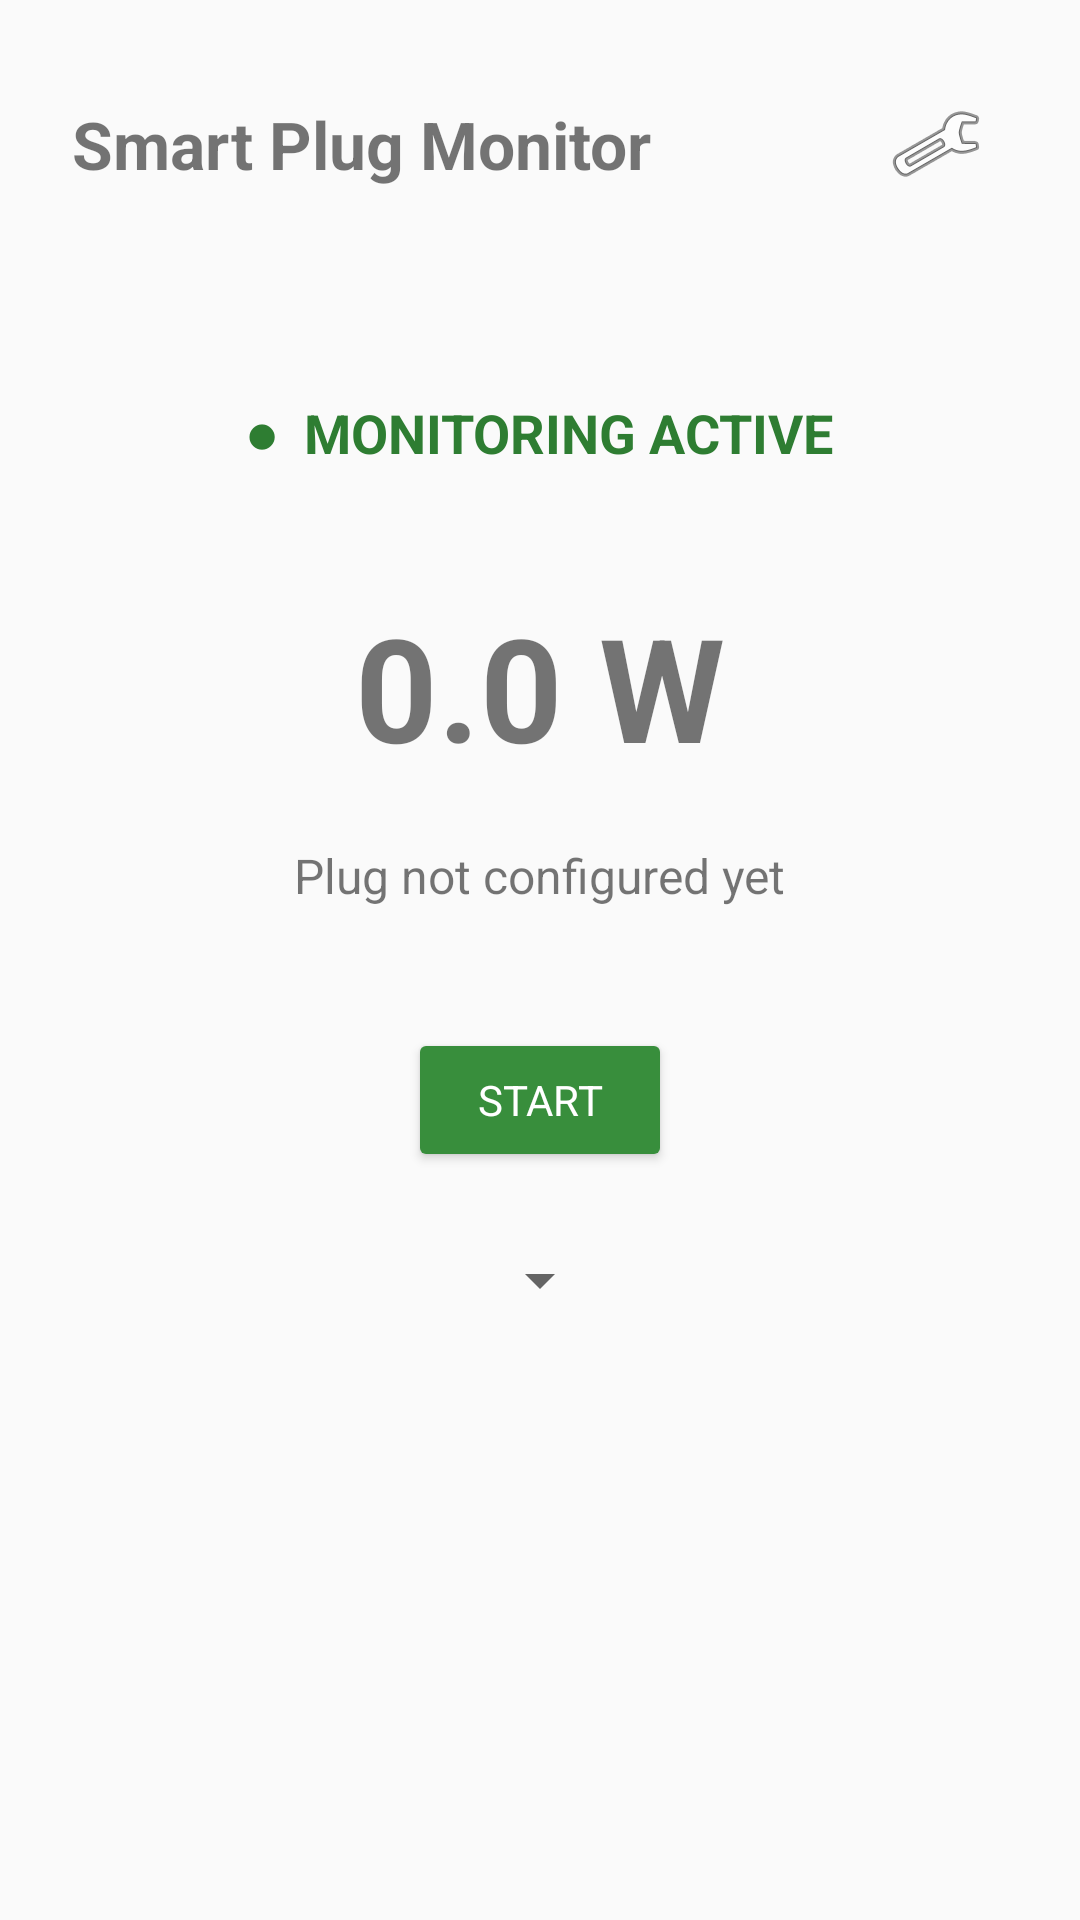

Named icons in this screenshot (1080×1920) and their centers, (x,y):
Settings: (936,144)
